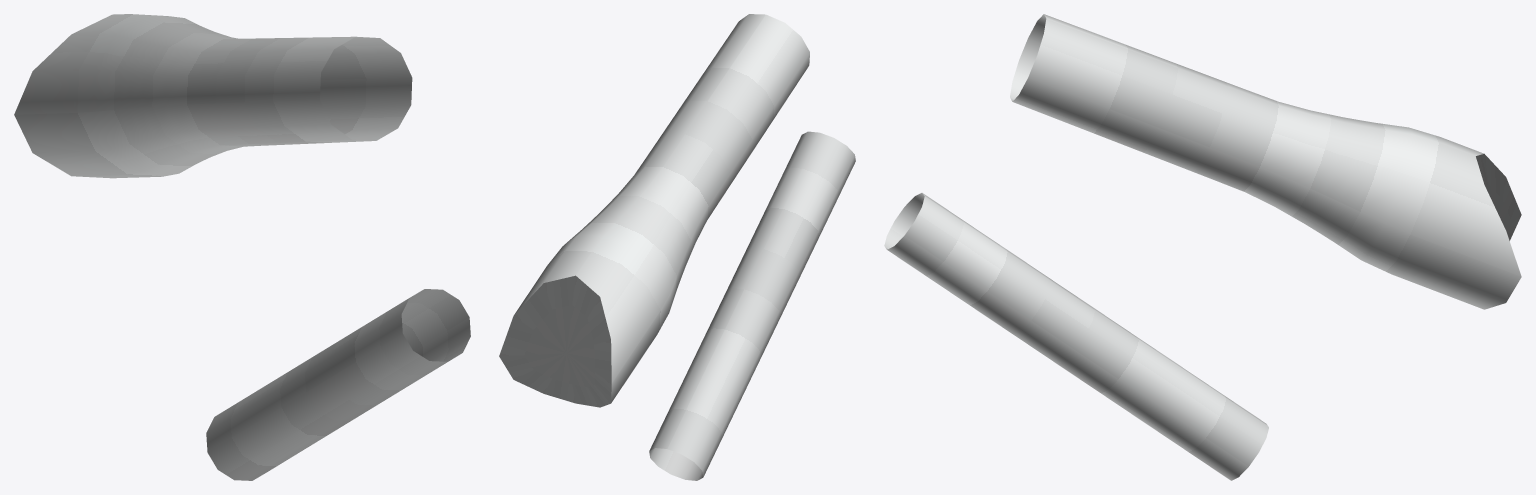
The model's file is luminairearm_truss10ftstraightdouble_c8_pedestal.obj.
3 renders of one model, left to right at view 1: azimuth 30°, elevation 25°; view 2: azimuth 150°, elevation 25°; view 3: azimuth 270°, elevation 25°, orthographic. The views are drawn at different scales.
Parts seen in each view (by area): view 1: luminairearm_truss10ftstraightdouble_c8_pedestal; view 2: luminairearm_truss10ftstraightdouble_c8_pedestal; view 3: luminairearm_truss10ftstraightdouble_c8_pedestal.
Boxes of the visible parts, x1=… form: luminairearm_truss10ftstraightdouble_c8_pedestal: x1=14, y1=14, x2=470, y2=480; luminairearm_truss10ftstraightdouble_c8_pedestal: x1=499, y1=14, x2=855, y2=480; luminairearm_truss10ftstraightdouble_c8_pedestal: x1=884, y1=14, x2=1521, y2=480.
Bounding box in the file's own units: 0.3375 × 1.16 × 1.46.
